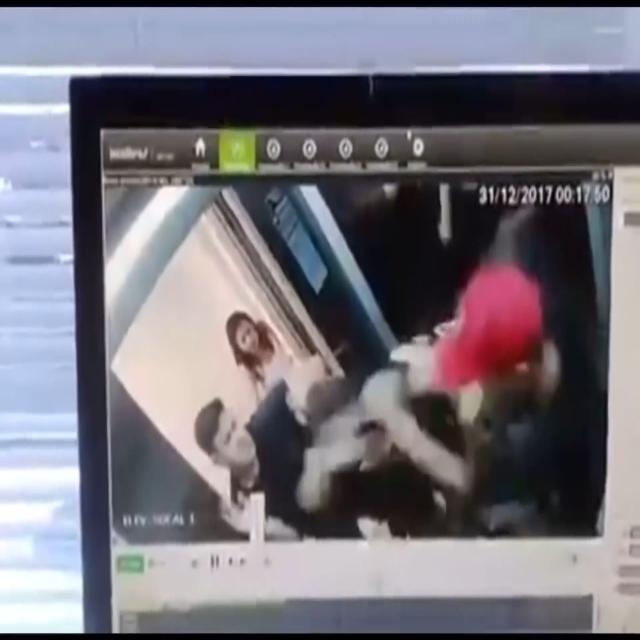fight: (188, 260, 589, 506)
